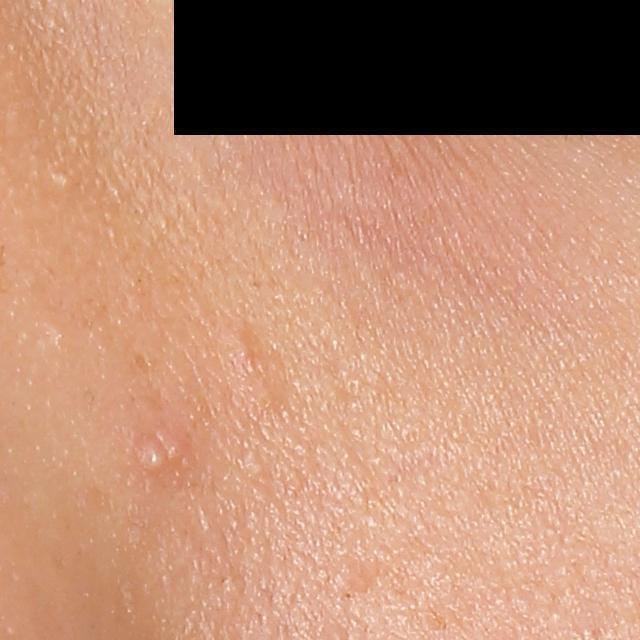pustule: (132, 431, 176, 476)
